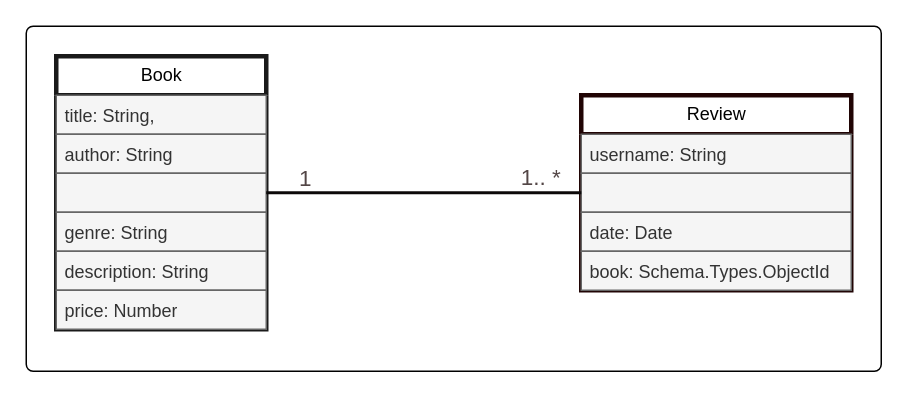
Some shapes in this 908 by 398 pixel diagram are drawn without their labels. The shapes that lost their labels are listed below. From the top down, each one's centre as x and y in pixels, then its label:
(160,192): publish_date: Date
(715,192): text: String
